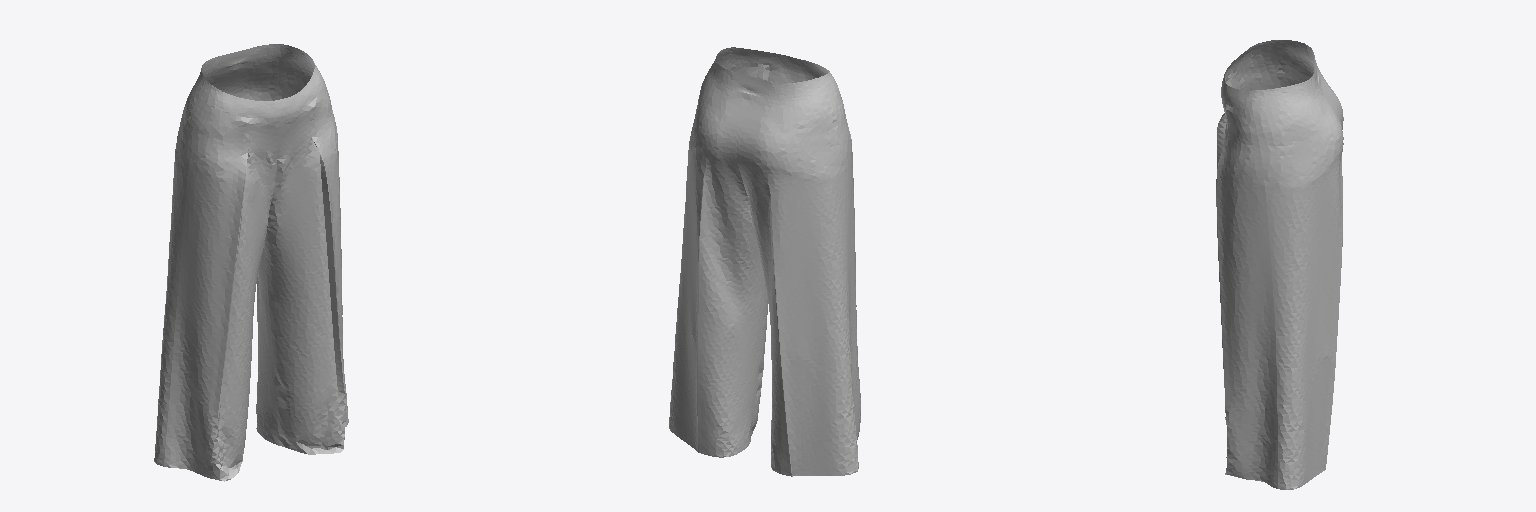
The model's file is Small_Average.obj.
3 views of the same model, side by side, from view 1: azimuth 30°, elevation 25°; view 2: azimuth 150°, elevation 25°; view 3: azimuth 270°, elevation 25° (orthographic).
Parts seen in each view (by area): view 1: changku.006; view 2: changku.006; view 3: changku.006.
Boxes of the visible parts, <box> form: changku.006: <box>154,44,348,481</box>; changku.006: <box>669,47,860,476</box>; changku.006: <box>1216,40,1343,489</box>.
Bounding box in the file's own units: 0.4894 × 0.9545 × 0.2851.